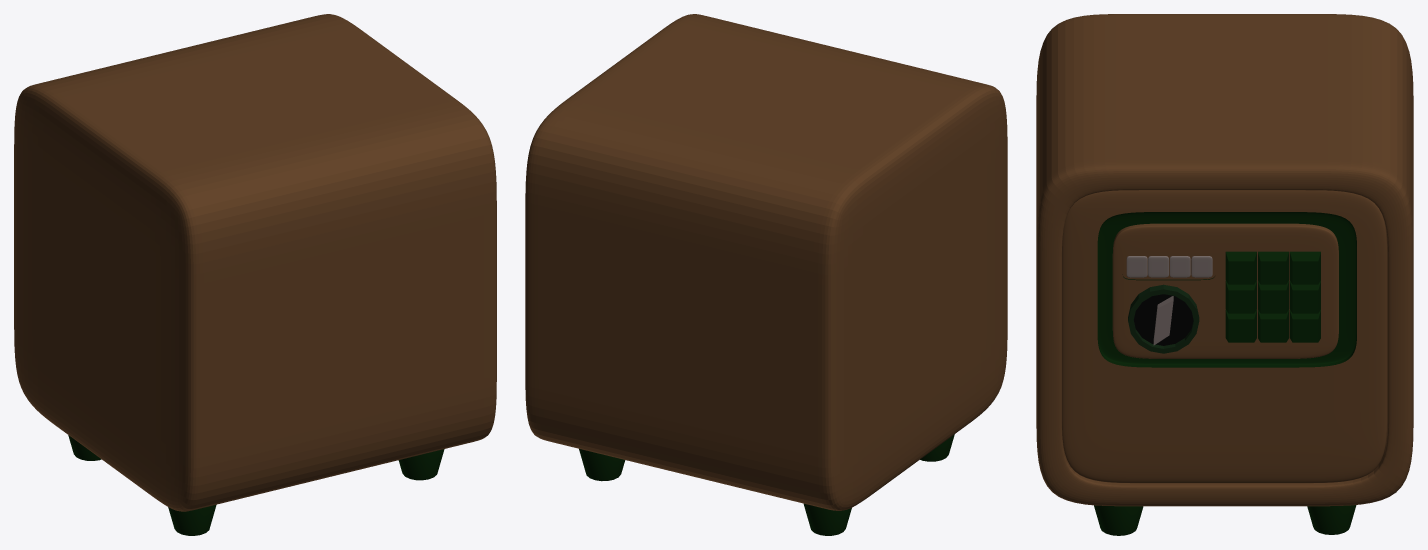
Rendered from Tresor.glb.
The picture shows the model from 3 angles, left to right: view 1: azimuth 30°, elevation 25°; view 2: azimuth 150°, elevation 25°; view 3: azimuth 270°, elevation 25°; orthographic projection. The views are drawn at different scales.
Parts seen in each view (by area): view 1: Body; view 2: Body; view 3: Door, Body.
Part boxes in pixels (<box>): Body: <box>14,14,496,535</box>; Body: <box>525,14,1007,535</box>; Door: <box>1062,190,1387,483</box>; Body: <box>1036,14,1413,535</box>.
Bounding box in the file's own units: 2.14 × 2.23 × 2.
